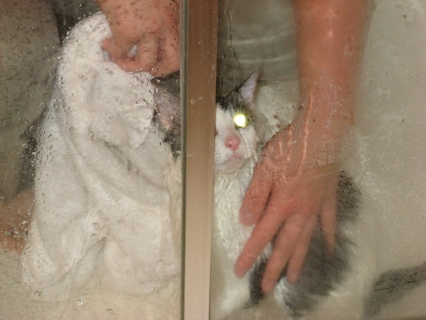Cat: (154, 70, 375, 319)
